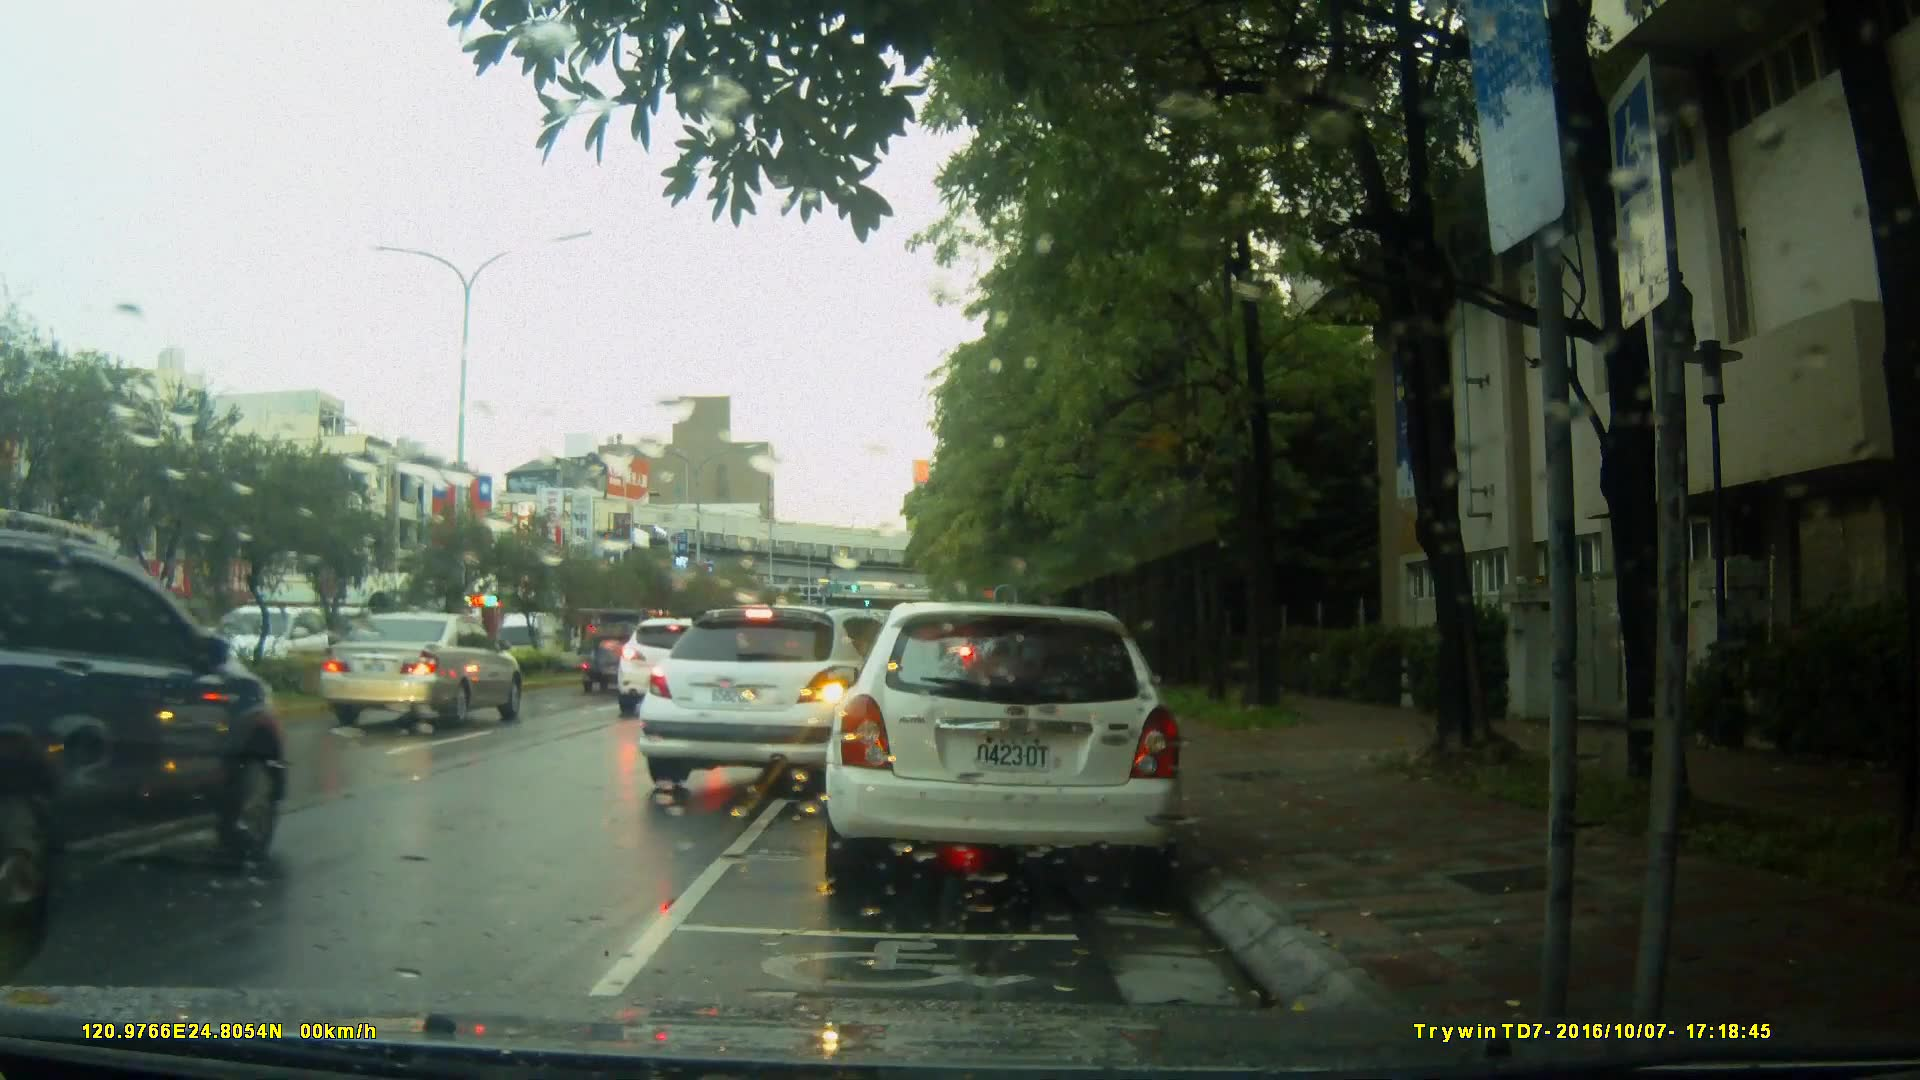vehicle: (5, 517, 291, 913), (820, 603, 1188, 898), (638, 603, 945, 800), (316, 613, 524, 728)
